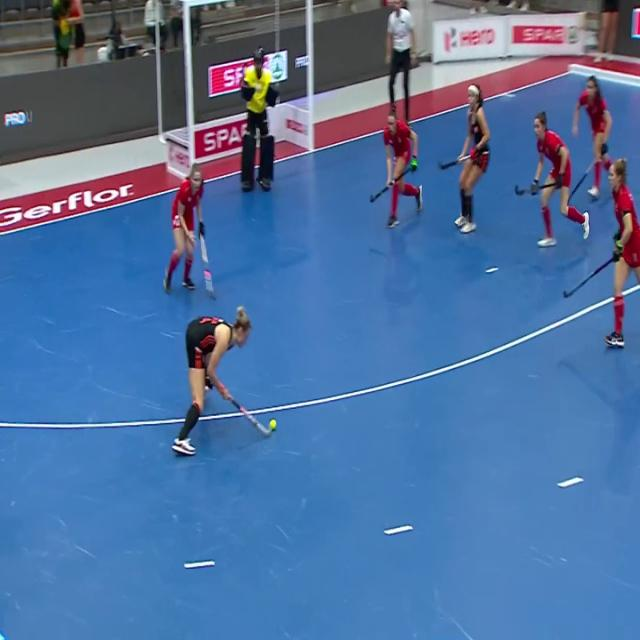ball: (266, 408, 280, 443)
